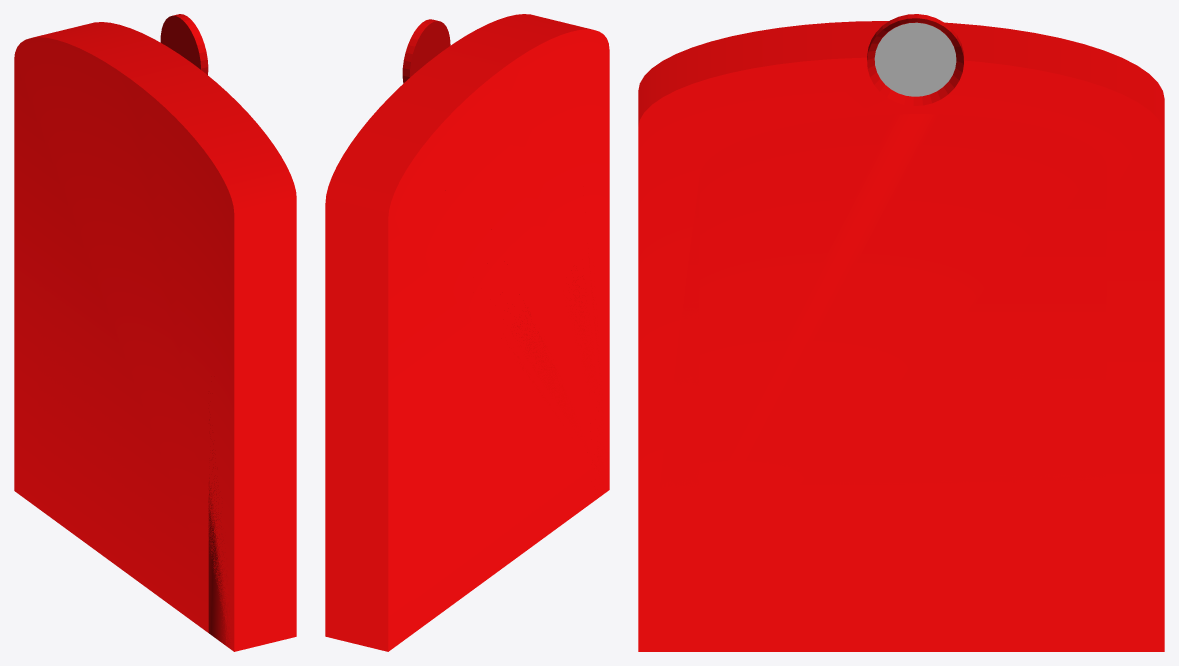
Rendered from door2.fbx.
3 views of the same model, side by side, from view 1: azimuth 30°, elevation 25°; view 2: azimuth 150°, elevation 25°; view 3: azimuth 270°, elevation 25° (orthographic). The views are drawn at different scales.
Parts seen in each view (by area): view 1: Kapı; view 2: Kapı; view 3: Kapı, Coin-Img.
Boxes of the visible parts, box(x1,y1,x2,y2) form: Kapı: box(14, 14, 296, 651); Kapı: box(325, 14, 609, 651); Kapı: box(638, 14, 1164, 651); Coin-Img: box(874, 22, 956, 96).
Size of the model in its own units: 99.92 by 730 by 546.
